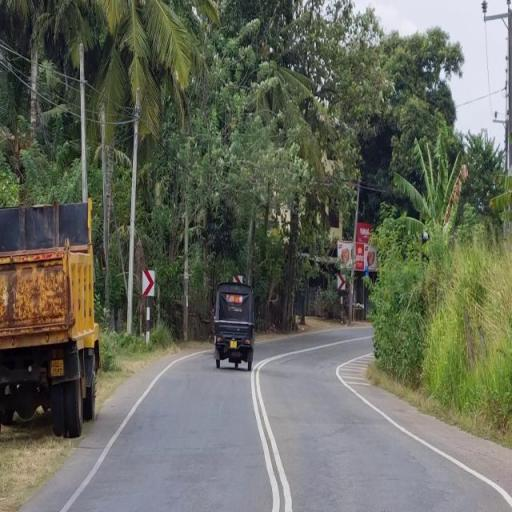double_white_line: (250, 354, 292, 511)
